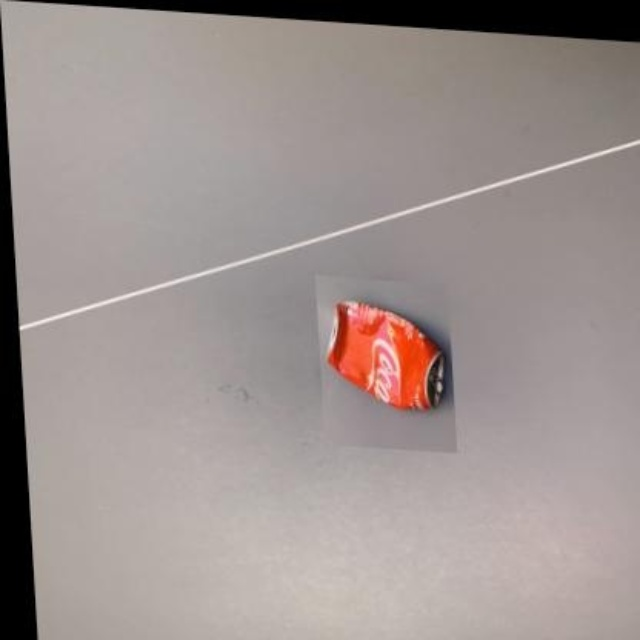trash: (328, 302, 443, 409)
